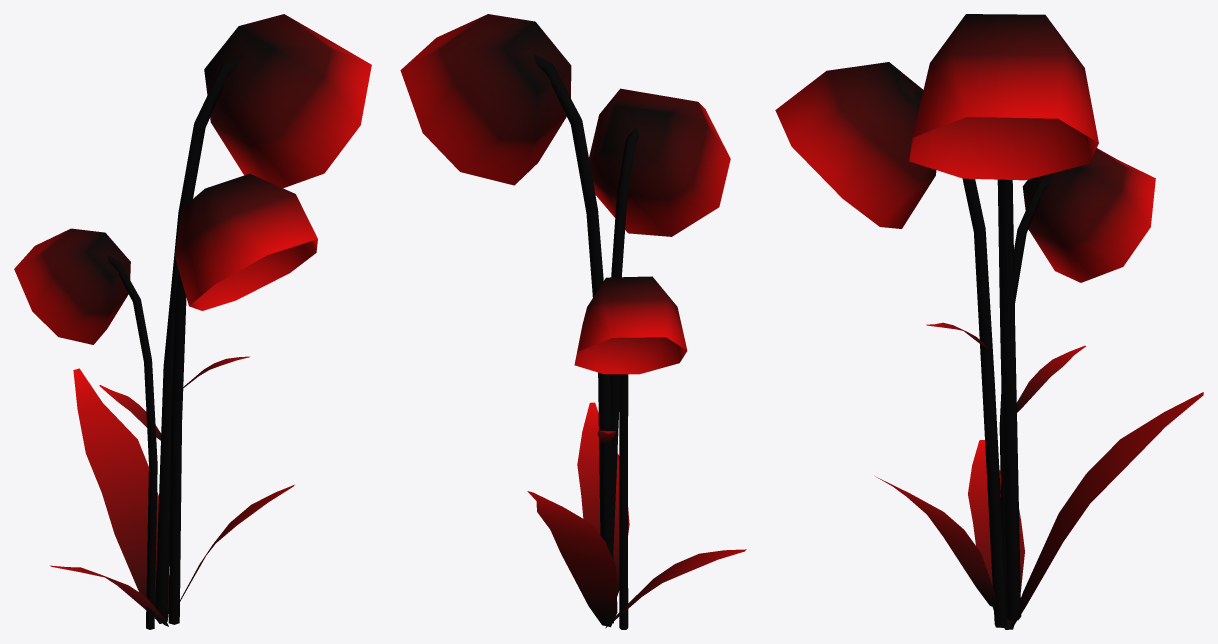
File: Flower_01.fbx
The picture shows the model from 3 angles, left to right: view 1: azimuth 30°, elevation 25°; view 2: azimuth 150°, elevation 25°; view 3: azimuth 270°, elevation 25°; orthographic projection. The views are drawn at different scales.
Parts seen in each view (by area): view 1: Flower_01; view 2: Flower_01; view 3: Flower_01.
Boxes of the visible parts, x1=… form: Flower_01: x1=14, y1=14, x2=371, y2=629; Flower_01: x1=400, y1=14, x2=746, y2=629; Flower_01: x1=775, y1=14, x2=1203, y2=629.
Bounding box in the file's own units: 122 × 210 × 122.
